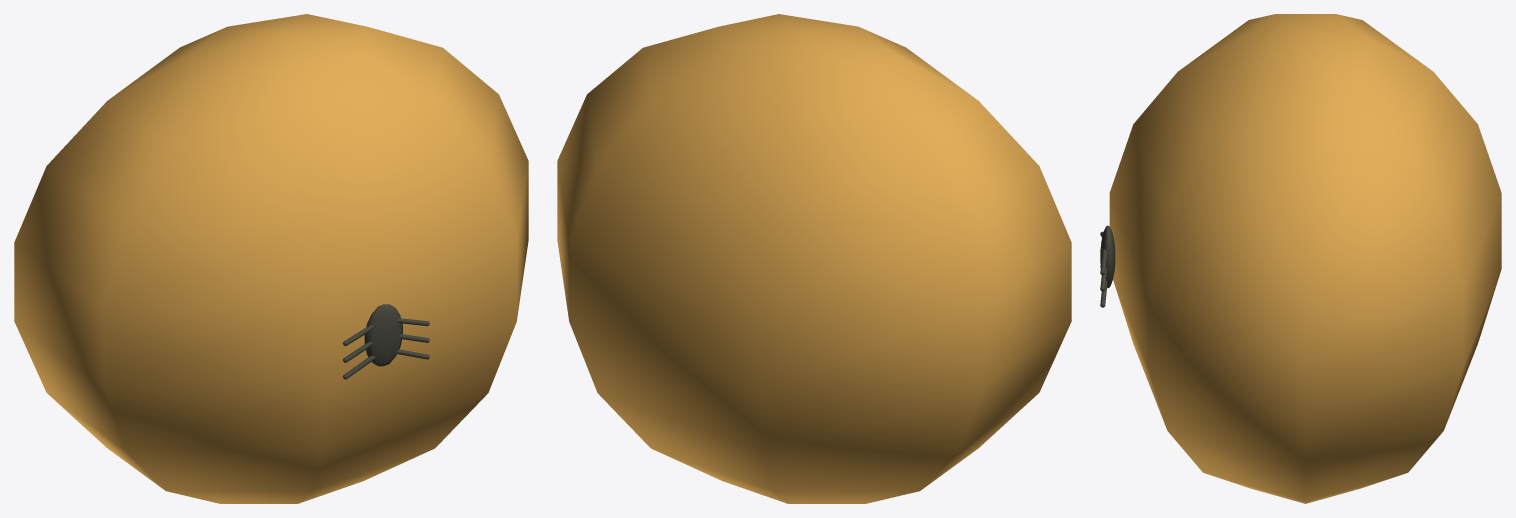
Rendered from dinosaurs-and-prehistoric-life-amber-block-2b49d803__4926.glb.
The picture shows the model from 3 angles, left to right: view 1: azimuth 30°, elevation 25°; view 2: azimuth 150°, elevation 25°; view 3: azimuth 270°, elevation 25°; orthographic projection. The views are drawn at different scales.
Visible parts, largest first — view 1: amber-block; view 2: amber-block; view 3: amber-block.
Part boxes in pixels (x1=…): amber-block: x1=14, y1=14, x2=528, y2=503; amber-block: x1=557, y1=14, x2=1071, y2=503; amber-block: x1=1100, y1=14, x2=1501, y2=503.
Size of the model in its own units: 0.1964 by 0.1812 by 0.15.
